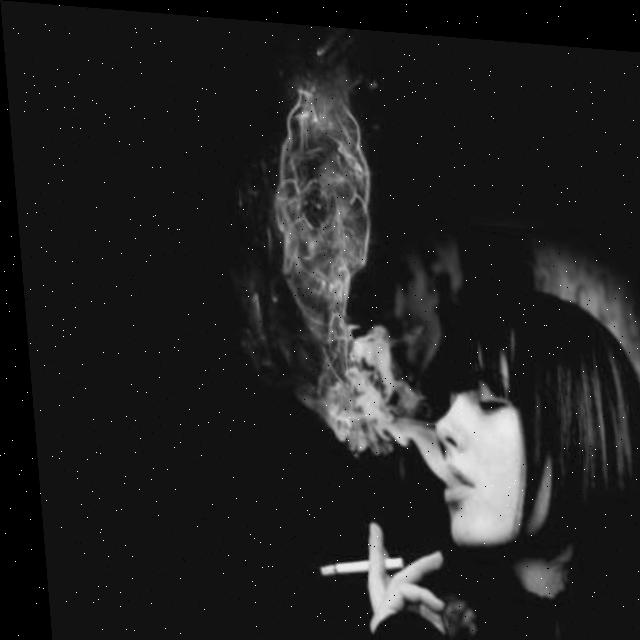cigarette: (309, 545, 397, 578)
